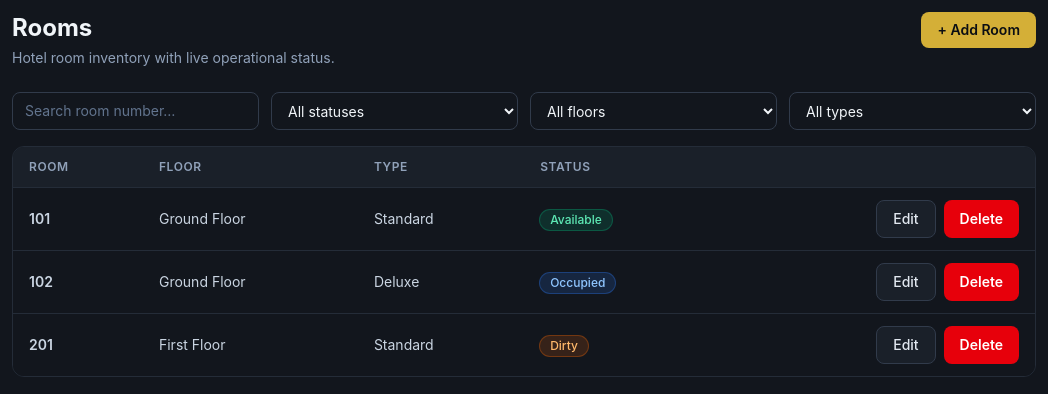
Test: RoomsPage › filters rooms by search text
Expected: the text "101" is shown, [29,210,50,227]
Type "20" into the field named "Search rooms". click: (136, 111)
box: [12,92,259,130]
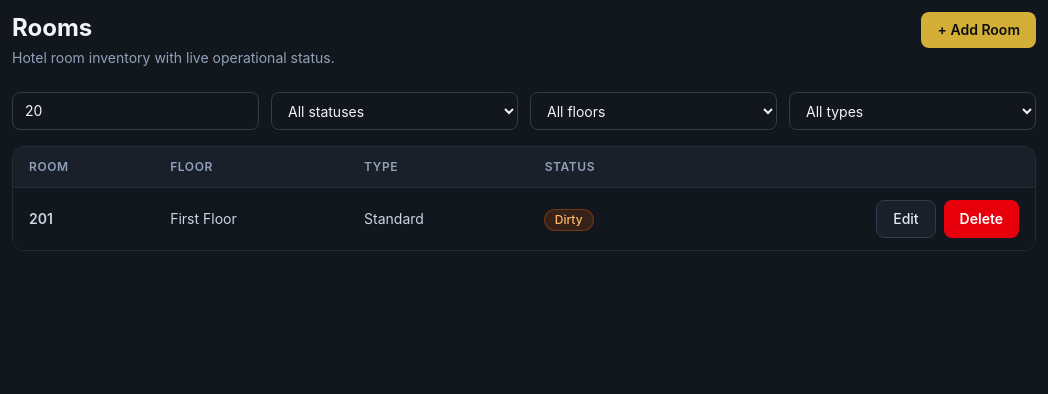
Expected: the text "201" is shown, [29,210,53,227]
Expected: the text "101" is gone
